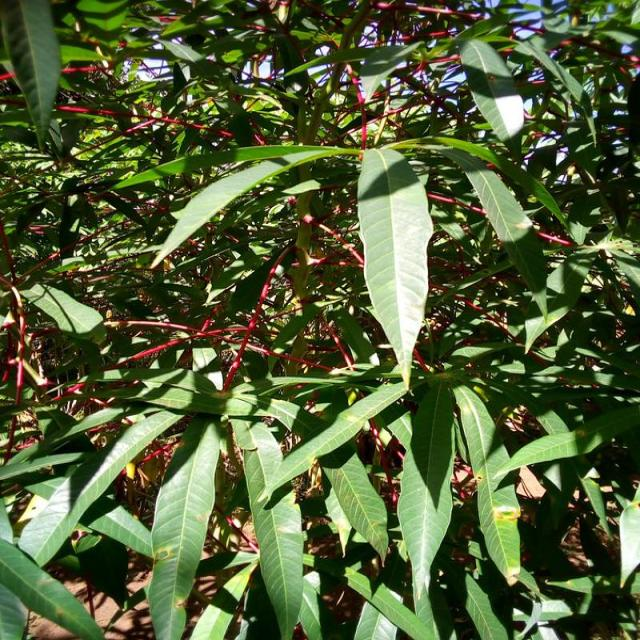cassava leaf: (355, 146, 433, 389), (458, 36, 524, 142)
